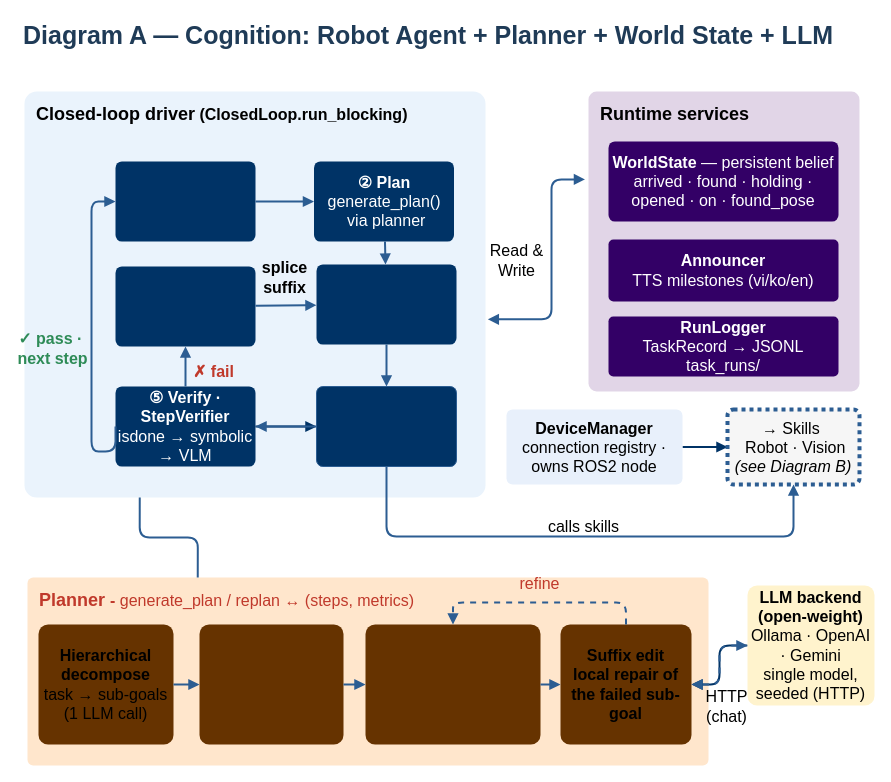
The diagram is 891 pixels wide and 782 high, and some of its shapes have lost their labels. The shapes that lost their labels are listed below. From the top down, each one's centre as x and y in pixels, then its label:
At (185,201): "① Perceive observe(node) → obs, visible".
At (185,306): "⑥ Replan planner.replan() suffix (≤3)".
At (386,304): "③ Map · ActionMapper action → skill, apply_effect".
At (386,426): "④ Act · SkillRegistry execute(name, params, node)".
At (271,684): "Hybrid memory seed GT + live episodes (Chroma / Jaccard)".
At (452,684): "Symbolic gate precondition verifier (0-token, typed feedback)".
